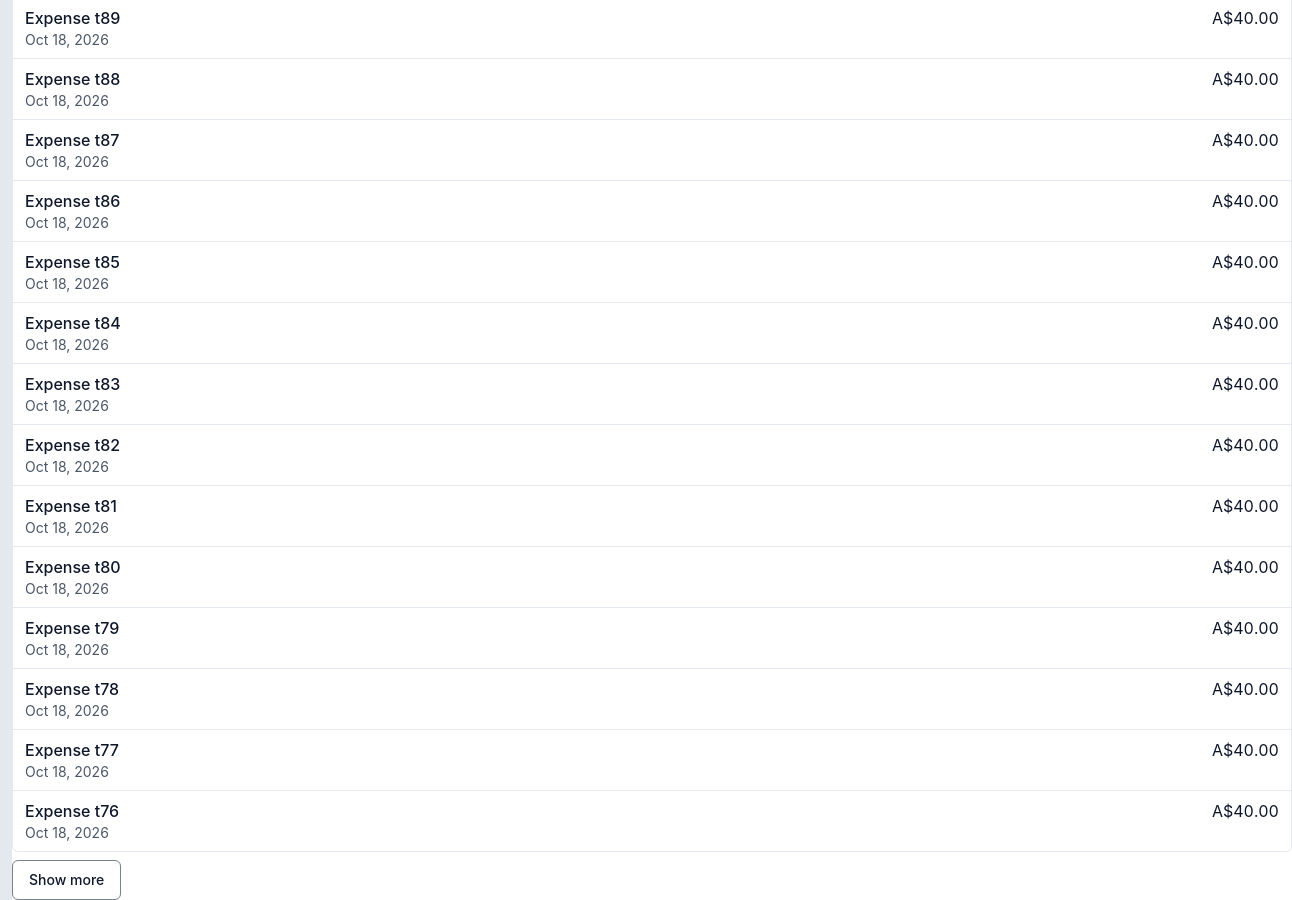
it: HouseHistory › shows more after a full page, and stops after a short one
(page scrolled)
What coordinates should you click on to do the following:
click the button "Show more"
I would click on:
 (67, 880)
Its box is [12,860,121,899].
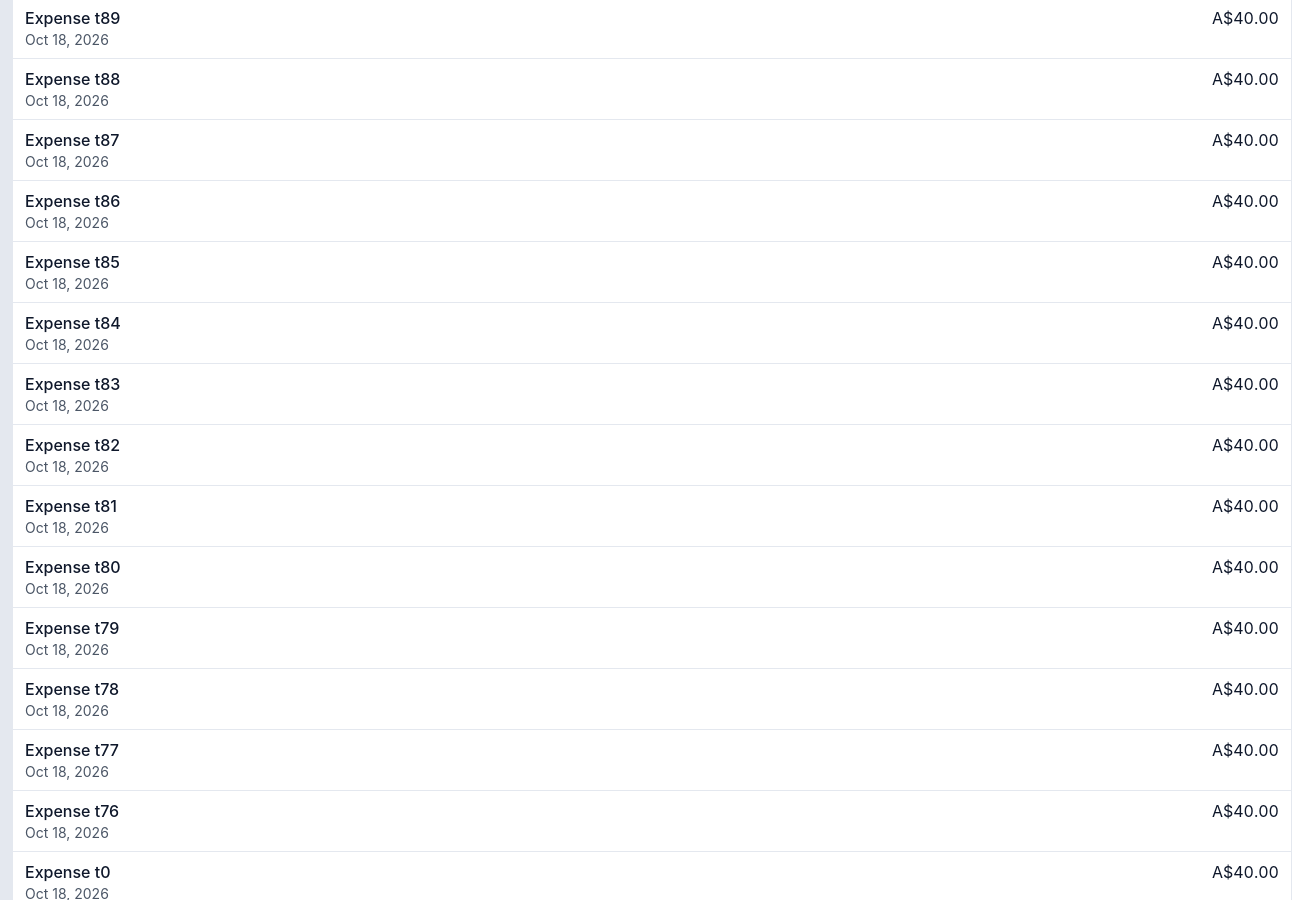
Check: the text "Expense t0" is shown, box [25,862,110,882]
Check: the button "Show more" is gone
